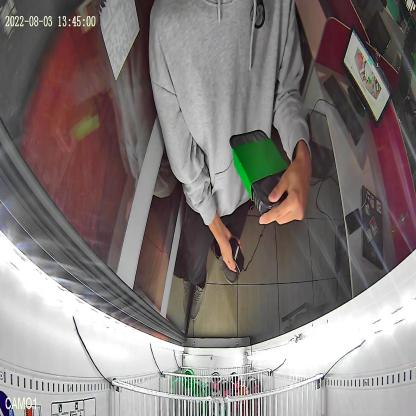green: (230, 129, 290, 216)
